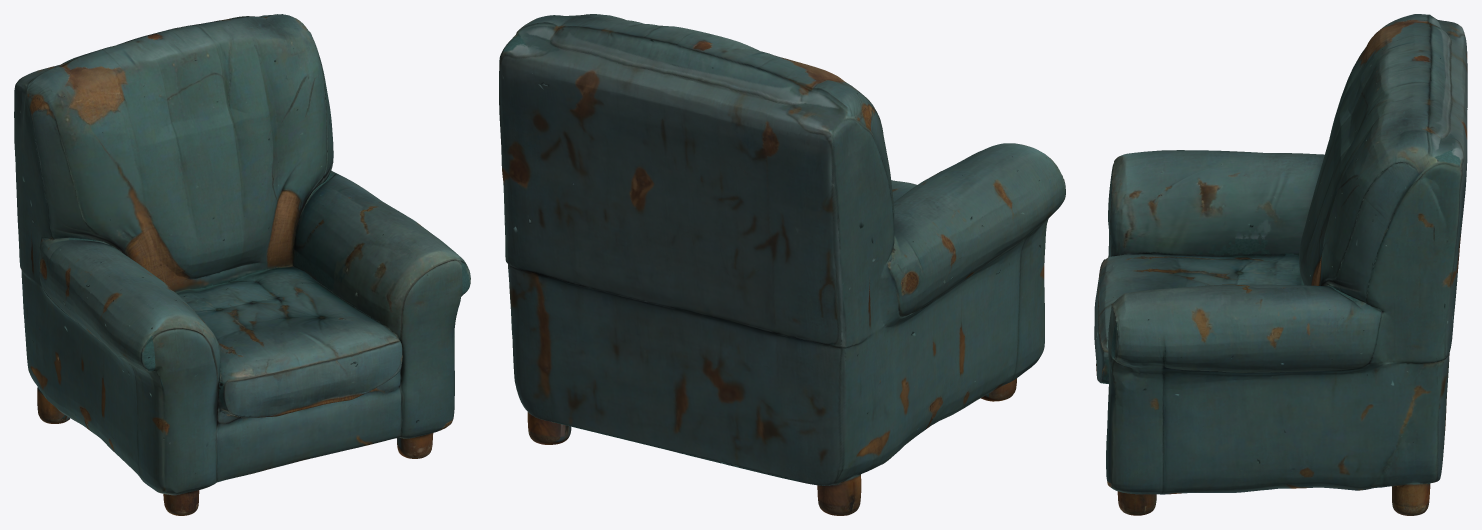
File: CIYC_Armchair.fbx
The picture shows the model from 3 angles, left to right: view 1: azimuth 30°, elevation 25°; view 2: azimuth 150°, elevation 25°; view 3: azimuth 270°, elevation 25°; orthographic projection. The views are drawn at different scales.
Parts seen in each view (by area): view 1: Mesh_0; view 2: Mesh_0; view 3: Mesh_0.
Boxes of the visible parts, x1,y1,x2,y2 form: Mesh_0: [14, 14, 470, 515]; Mesh_0: [499, 14, 1065, 515]; Mesh_0: [1094, 14, 1467, 515].
Bounding box in the file's own units: 199 × 200 × 176.
Materials: 1 (1 with a texture image).
